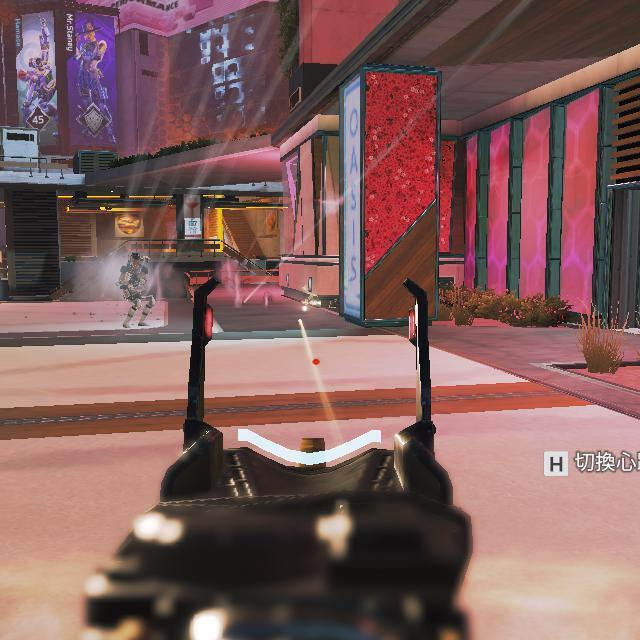avatar: (117, 251, 156, 329)
